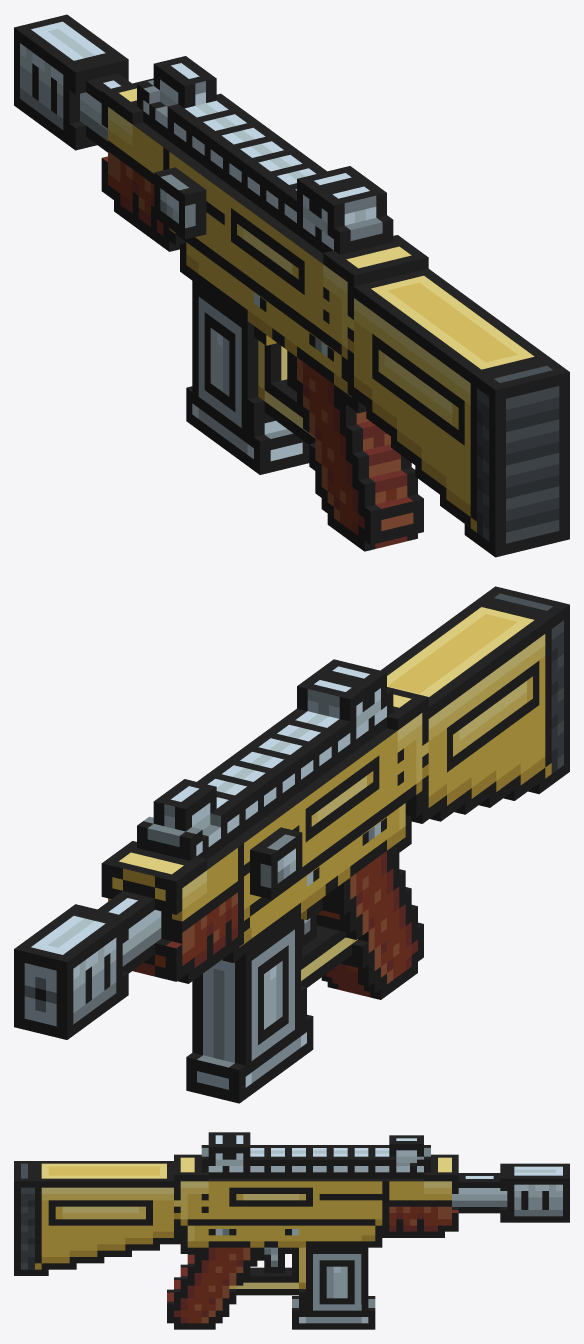
File: Rifle_v3_slim_muzzle.glb
3 views of the same model, one above another, from view 1: azimuth 30°, elevation 25°; view 2: azimuth 150°, elevation 25°; view 3: azimuth 270°, elevation 25° (orthographic). The views are drawn at different scales.
Visible parts, largest first — view 1: Body, Magazine, Slide; view 2: Body, Magazine, Slide; view 3: Body, Magazine.
Part boxes in pixels (<box>): Body: <box>14,14,569,557</box>; Magazine: <box>186,281,309,474</box>; Slide: <box>154,167,206,239</box>; Body: <box>14,586,569,1039</box>; Magazine: <box>186,914,313,1103</box>; Slide: <box>250,827,302,899</box>; Body: <box>14,1132,569,1329</box>; Magazine: <box>292,1247,375,1329</box>.
Bounding box in the file's own units: 0.478 × 1.54 × 4.25.
1 material, 1 textured.
